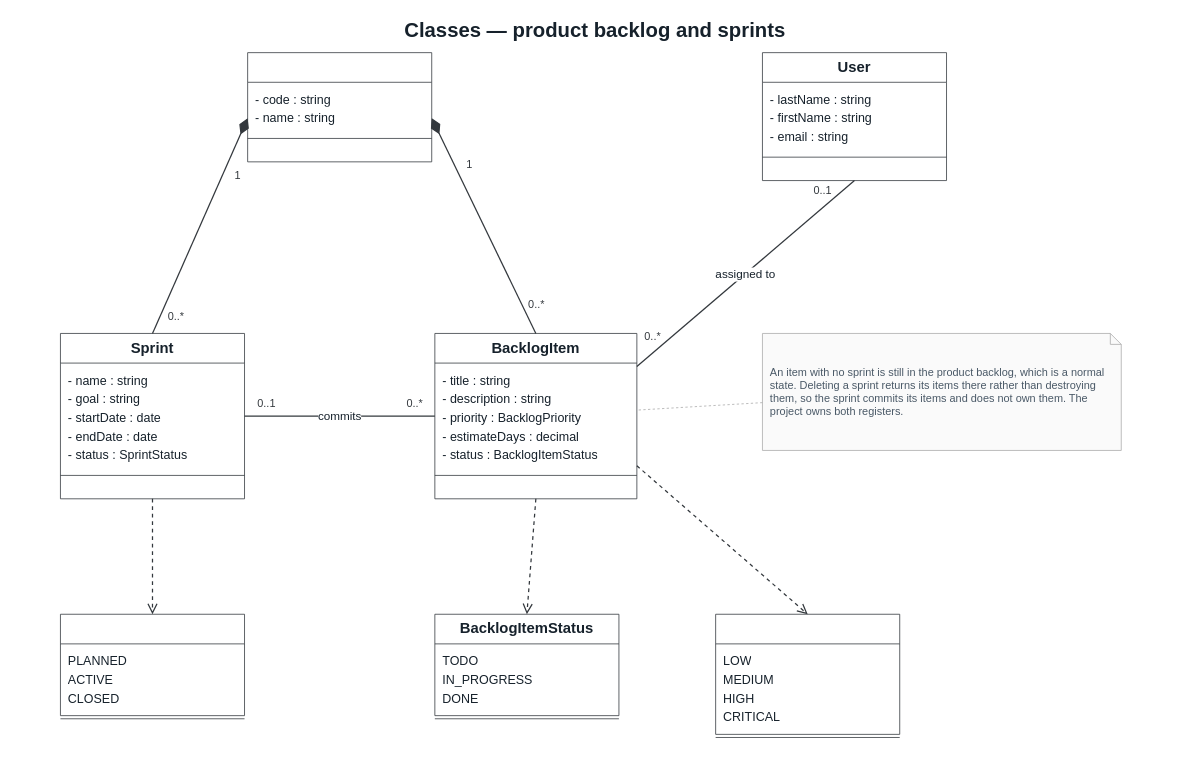
The diagram is 1189 pixels wide and 780 high, and some of its shapes have lost their labels. The shapes that lost their labels are listed below. From the top down, each one's box as (x1, y1, x2, y2) in pixels, then its label:
(247, 52, 432, 162): Project
(60, 613, 245, 716): SprintStatus
(715, 613, 900, 734): BacklogPriority
